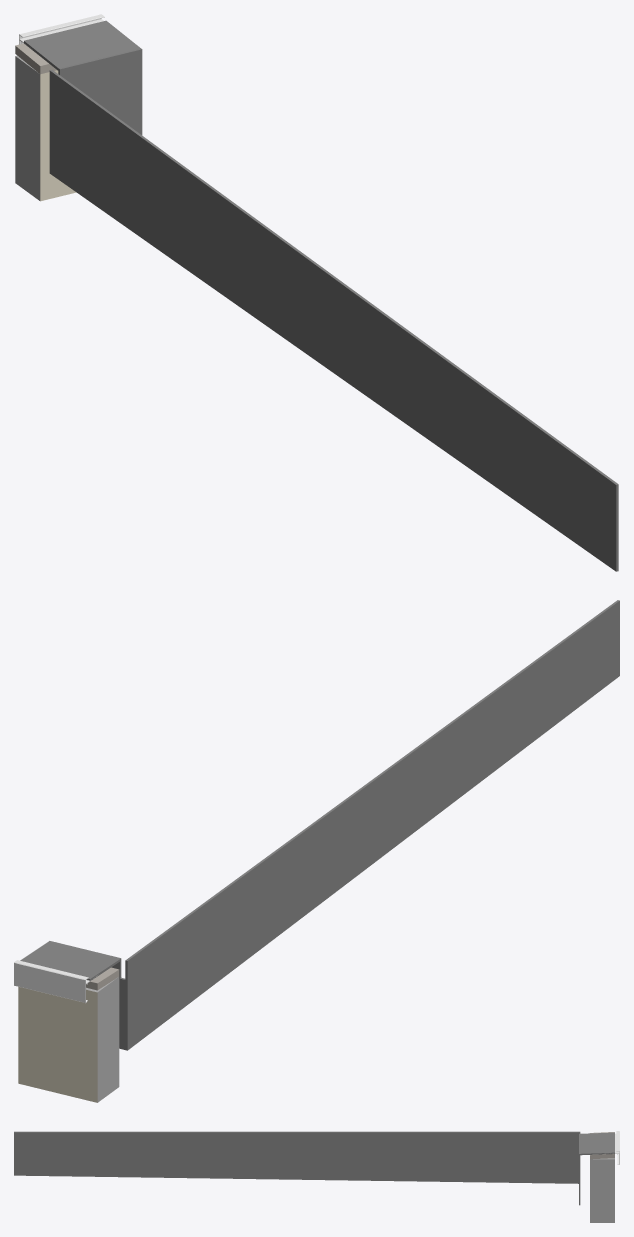
3 views of the same model, one above another, from view 1: azimuth 30°, elevation 25°; view 2: azimuth 150°, elevation 25°; view 3: azimuth 270°, elevation 25° (orthographic). The views are drawn at different scales.
Parts seen in each view (by area): view 1: [6732186]47_Dakbedekking, [6731995]21_HSB-element, [6731943]47_Dakbedekking, [6731938]47_Dakbedekking; view 2: [6732186]47_Dakbedekking, [6731995]21_HSB-element, [6731938]47_Dakbedekking, [6731952]daktrim, [6731943]47_Dakbedekking; view 3: [6732186]47_Dakbedekking, [6731995]21_HSB-element, [6731938]47_Dakbedekking, [6731983]27_Houtwolcement.
Boxes of the visible parts, bbox=[...] form: [6732186]47_Dakbedekking: bbox=[49, 70, 618, 571]; [6731995]21_HSB-element: bbox=[15, 55, 76, 201]; [6731943]47_Dakbedekking: bbox=[58, 48, 142, 134]; [6731938]47_Dakbedekking: bbox=[24, 20, 140, 70]; [6732186]47_Dakbedekking: bbox=[125, 600, 619, 1050]; [6731995]21_HSB-element: bbox=[18, 977, 119, 1102]; [6731938]47_Dakbedekking: bbox=[20, 941, 119, 980]; [6731952]daktrim: bbox=[14, 960, 97, 1003]; [6731943]47_Dakbedekking: bbox=[49, 941, 125, 1049]; [6732186]47_Dakbedekking: bbox=[14, 1131, 580, 1183]; [6731995]21_HSB-element: bbox=[590, 1158, 614, 1222]; [6731938]47_Dakbedekking: bbox=[580, 1132, 614, 1155]; [6731983]27_Houtwolcement: bbox=[590, 1132, 614, 1159].
Bounding box in the file's own units: 0.21 × 0.3155 × 2.42.
